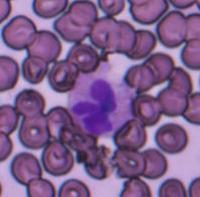N: (67, 72, 133, 136)
